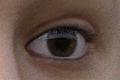eye: (46, 28, 78, 57)
